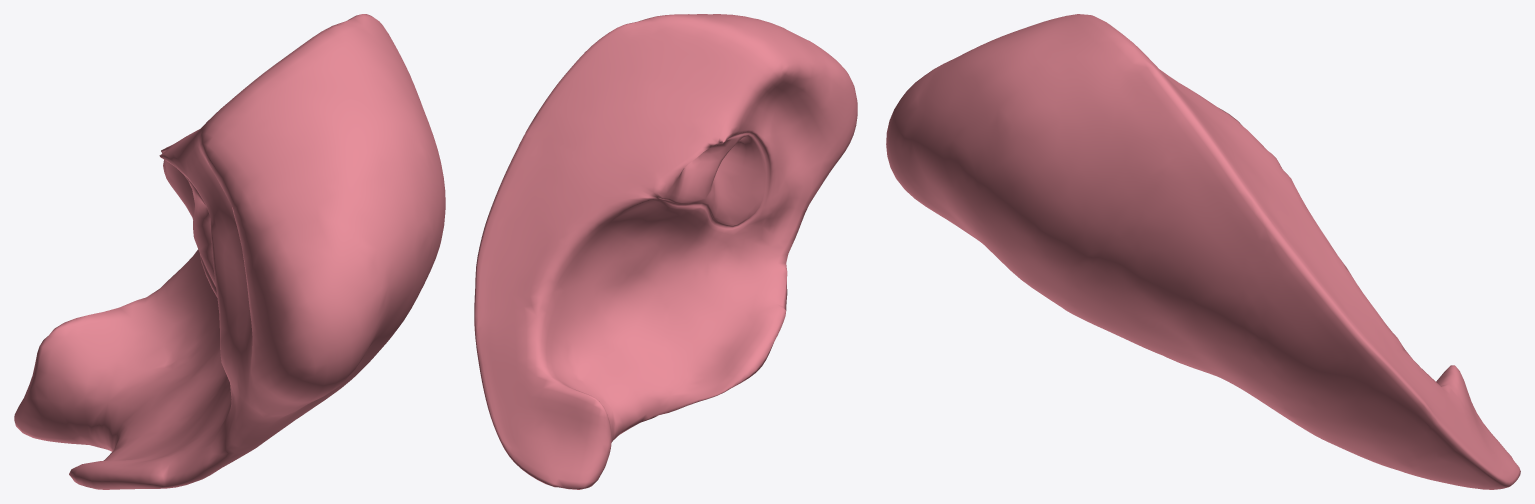
The picture shows the model from 3 angles, left to right: view 1: azimuth 30°, elevation 25°; view 2: azimuth 150°, elevation 25°; view 3: azimuth 270°, elevation 25°; orthographic projection. The views are drawn at different scales.
Parts seen in each view (by area): view 1: 左肺上叶; view 2: 左肺上叶; view 3: 左肺上叶.
Part boxes in pixels (left/top/right/bottom): 左肺上叶: left=14, top=14, right=445, bottom=489; 左肺上叶: left=474, top=14, right=857, bottom=489; 左肺上叶: left=886, top=14, right=1520, bottom=489.
Size of the model in its own units: 0.1681 by 0.2516 by 0.3116.
